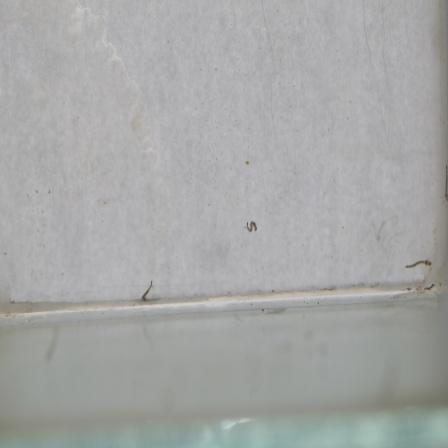Jentik-Nyamuk: (404, 253, 436, 277), (132, 276, 159, 303), (242, 213, 263, 240)
